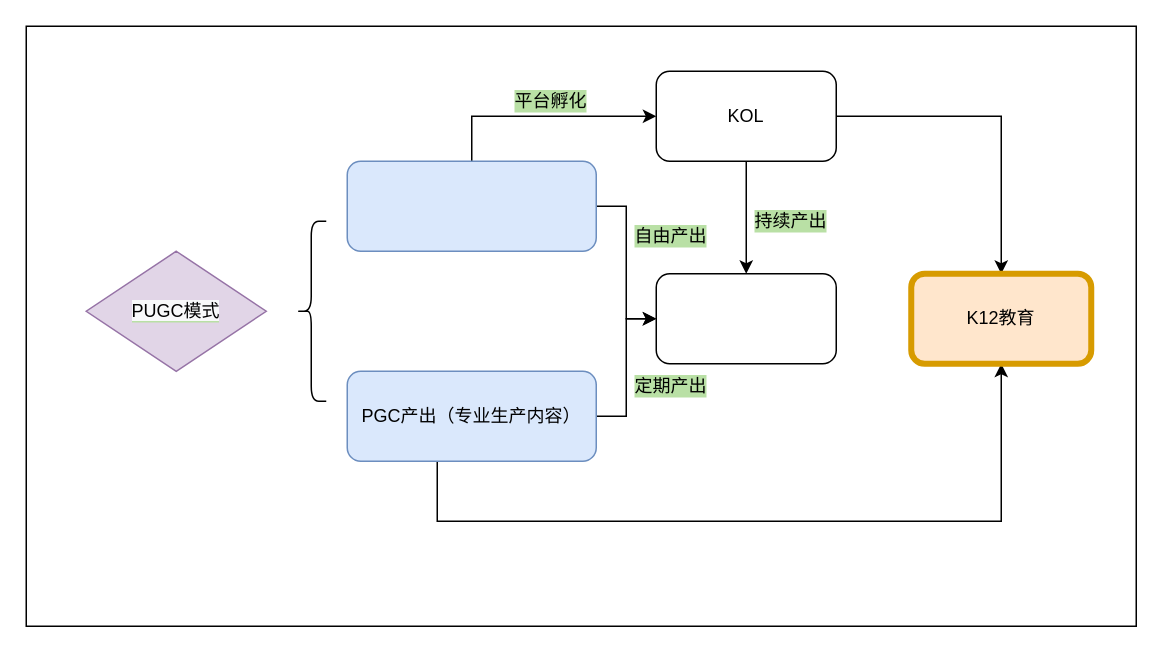
This 1163x653 diagram has some shape labels left out. The centre of each missing label's shape, as x and y in pixels:
UGC产出（用户生产内容）: pixel 471 205
优质内容: pixel 745 318
